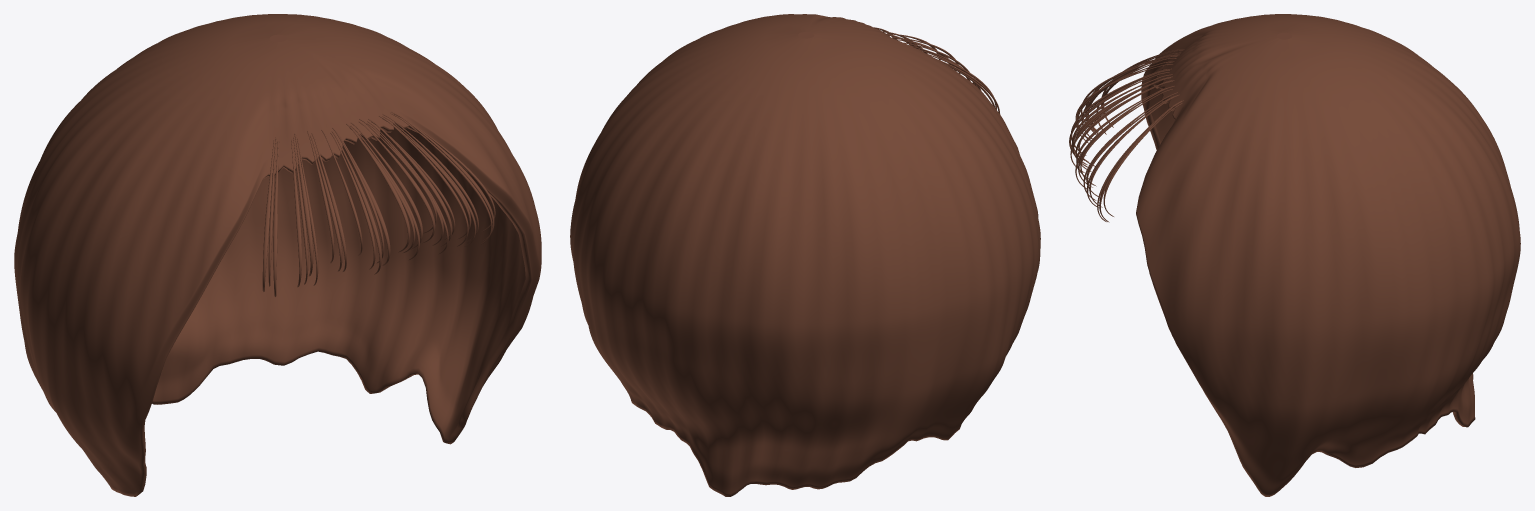
Rendered from side-sweep-pashmina.glb.
The picture shows the model from 3 angles, left to right: view 1: azimuth 30°, elevation 25°; view 2: azimuth 150°, elevation 25°; view 3: azimuth 270°, elevation 25°; orthographic projection. The views are drawn at different scales.
Visible parts, largest first — view 1: Hair / layered lob, Fringe / fine strands; view 2: Hair / layered lob, Fringe / fine strands; view 3: Hair / layered lob, Fringe / fine strands.
Part boxes in pixels (x1,y1,x2,y2): Hair / layered lob: (14,14,541,496); Fringe / fine strands: (262,111,495,296); Hair / layered lob: (570,14,1040,496); Fringe / fine strands: (873,27,1000,114); Hair / layered lob: (1136,14,1520,496); Fringe / fine strands: (1069,49,1184,222).
Bounding box in the file's own units: 0.8384 × 0.7657 × 0.8014.
